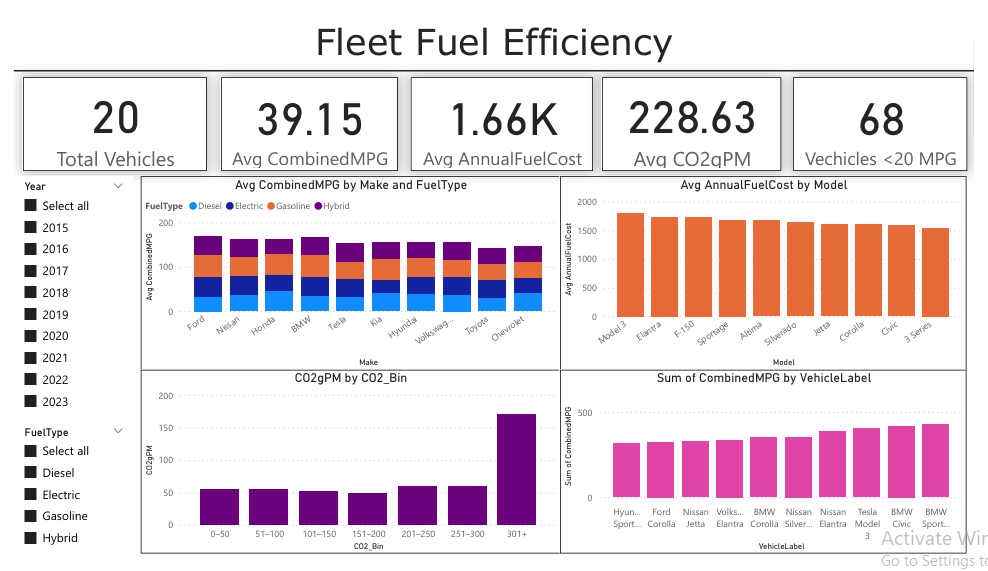

The dashboard page shown, as its layout file describes it:
{"tool":"powerbi","page":{"name":"DashBoard","canvas":[1280,720],"ordinal":0},"visuals":[{"type":"textbox","box":[0,0,1280,86.3],"z":0},{"type":"slicer","fields":{"Values":["FLEET FUEL DATA.Year"]},"box":[0,214.7,159.3,326.9],"z":0,"group":"g3"},{"type":"columnChart","title":"Avg CombinedMPG by Make and FuelType","fields":{"Category":["FLEET FUEL DATA.Make"],"Y":["Avg(FLEET FUEL DATA.CombinedMPG)"],"Series":["FLEET FUEL DATA.FuelType"]},"box":[168.9,214.7,559.3,257.9],"z":0,"group":"g1"},{"type":"shape","box":[0,67.7,1280,13],"z":1000},{"type":"columnChart","fields":{"Category":["FLEET FUEL DATA.Model"],"Y":["Avg(FLEET FUEL DATA.AnnualFuelCost)"]},"box":[728.2,214.7,541.7,257.9],"z":1000,"group":"g1"},{"type":"slicer","fields":{"Values":["FLEET FUEL DATA.FuelType"]},"box":[0,541.6,159.3,175.9],"z":1000,"group":"g3"},{"type":"card","fields":{"Values":["FLEET FUEL DATA.Total Vehicles"]},"box":[11.8,83,244.8,125],"z":2000,"group":"g2"},{"type":"group","id":"g1","title":"Group 1","box":[168.9,214.7,1100.9,502.7],"z":2000},{"type":"columnChart","fields":{"Category":["FLEET FUEL DATA.CO2_Bin"],"Y":["CountNonNull(FLEET FUEL DATA.CO2gPM)"]},"box":[168.9,472.6,559.3,244.8],"z":2000,"group":"g1"},{"type":"group","id":"g2","title":"Group 2","box":[11.8,83,1258.6,125],"z":3000},{"type":"card","fields":{"Values":["Avg(FLEET FUEL DATA.CombinedMPG)"]},"box":[275.3,83,236.2,125],"z":3000,"group":"g2"},{"type":"columnChart","fields":{"Category":["FLEET FUEL DATA.VehicleLabel"],"Y":["Sum(FLEET FUEL DATA.CombinedMPG)"]},"box":[728.2,472.6,541.7,244.8],"z":3000,"group":"g1"},{"type":"card","fields":{"Values":["Avg(FLEET FUEL DATA.AnnualFuelCost)"]},"box":[528.8,83,243.4,125],"z":4000,"group":"g2"},{"type":"group","id":"g3","title":"Group 3","box":[0,214.7,159.3,502.9],"z":4000},{"type":"card","fields":{"Values":["Avg(FLEET FUEL DATA.CO2gPM)"]},"box":[783.6,83,239,125],"z":5000,"group":"g2"},{"type":"card","fields":{"Values":["FLEET FUEL DATA.Vech <20 MPG"]},"box":[1038.5,83,231.8,125],"z":6000,"group":"g2"}]}

Visuals, with their boxes in screenshot pixels (x1, y1, x2, y2):
textbox: left=21, top=5, right=987, bottom=71
slicer - FLEET FUEL DATA.Year: left=21, top=169, right=142, bottom=417
"Avg CombinedMPG by Make and FuelType" columnChart: left=149, top=169, right=575, bottom=365
shape: left=21, top=57, right=987, bottom=67
columnChart - FLEET FUEL DATA.Model x Avg(FLEET FUEL DATA.AnnualFuelCost): left=575, top=169, right=987, bottom=365
slicer - FLEET FUEL DATA.FuelType: left=21, top=417, right=142, bottom=551
card - FLEET FUEL DATA.Total Vehicles: left=30, top=68, right=216, bottom=163
"Group 1" group: left=149, top=169, right=987, bottom=551
columnChart - FLEET FUEL DATA.CO2_Bin x CountNonNull(FLEET FUEL DATA.CO2gPM): left=149, top=365, right=575, bottom=551
"Group 2" group: left=30, top=68, right=987, bottom=163
card - Avg(FLEET FUEL DATA.CombinedMPG): left=230, top=68, right=410, bottom=163
columnChart - FLEET FUEL DATA.VehicleLabel x Sum(FLEET FUEL DATA.CombinedMPG): left=575, top=365, right=987, bottom=551
card - Avg(FLEET FUEL DATA.AnnualFuelCost): left=423, top=68, right=608, bottom=163
"Group 3" group: left=21, top=169, right=142, bottom=551
card - Avg(FLEET FUEL DATA.CO2gPM): left=617, top=68, right=799, bottom=163
card - FLEET FUEL DATA.Vech <20 MPG: left=811, top=68, right=987, bottom=163
